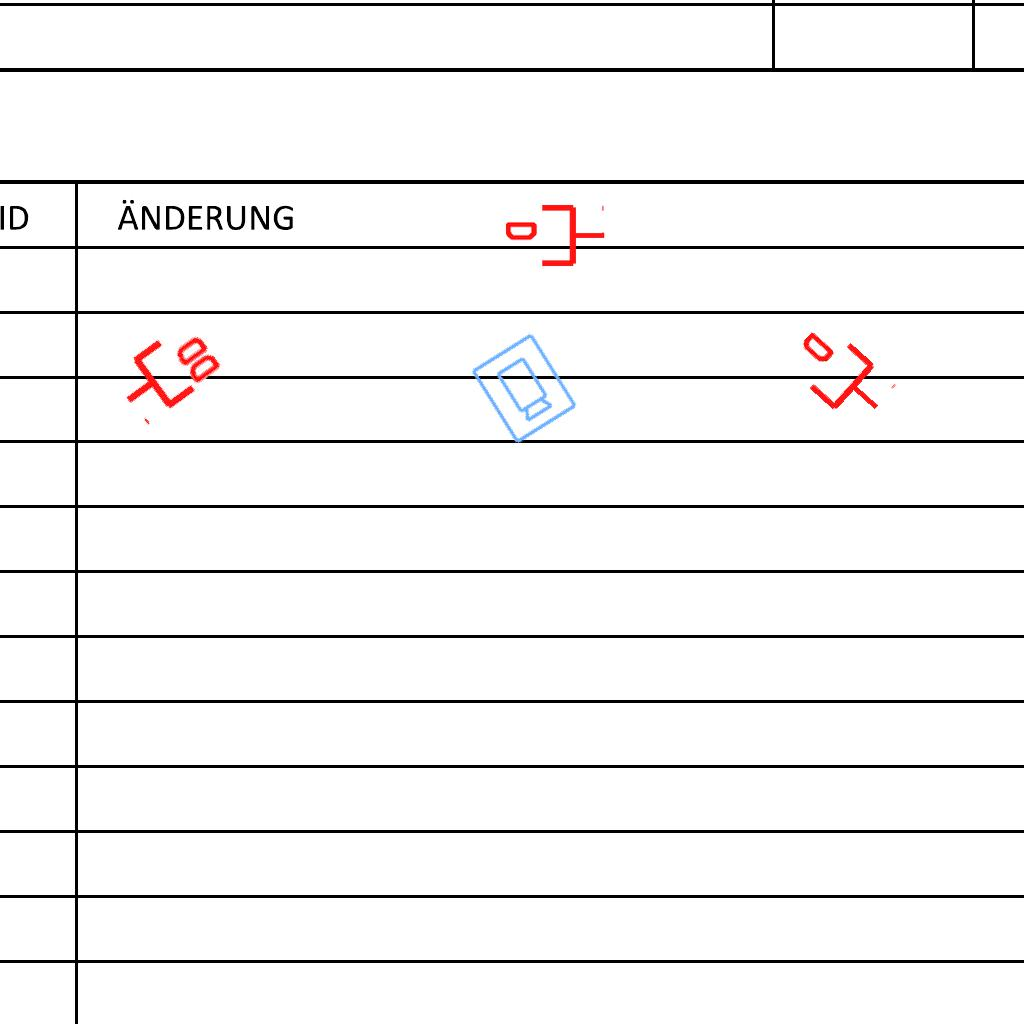Datenanschluss_einfach: (780, 315, 901, 435), (506, 201, 606, 270)
Datenanschluss_zweifach: (104, 312, 229, 429)
KFO_Kamera_mit_Festobjektiv: (466, 329, 581, 448)
